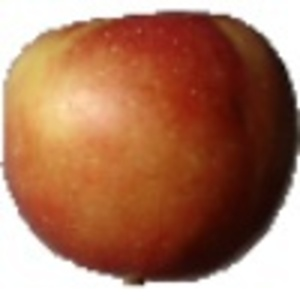maçã braeburn: (1, 7, 299, 282)
